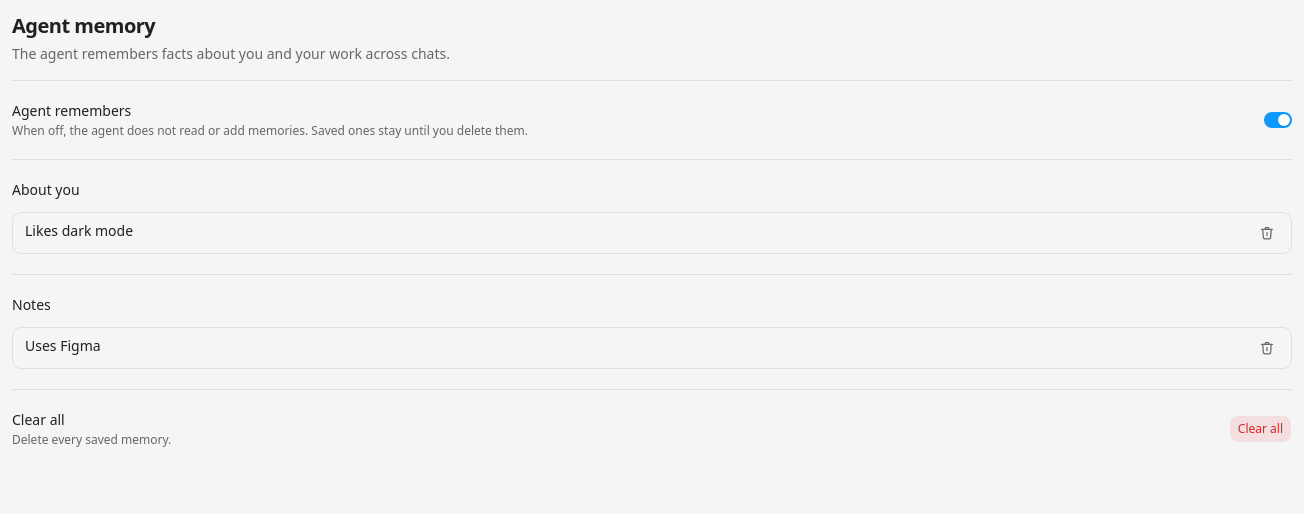
Scenario: MemorySection › reverts the switch when saving fails
Step 1. Click the switch named "Agent remembers" → (1278,120), box [1264, 112, 1292, 128]
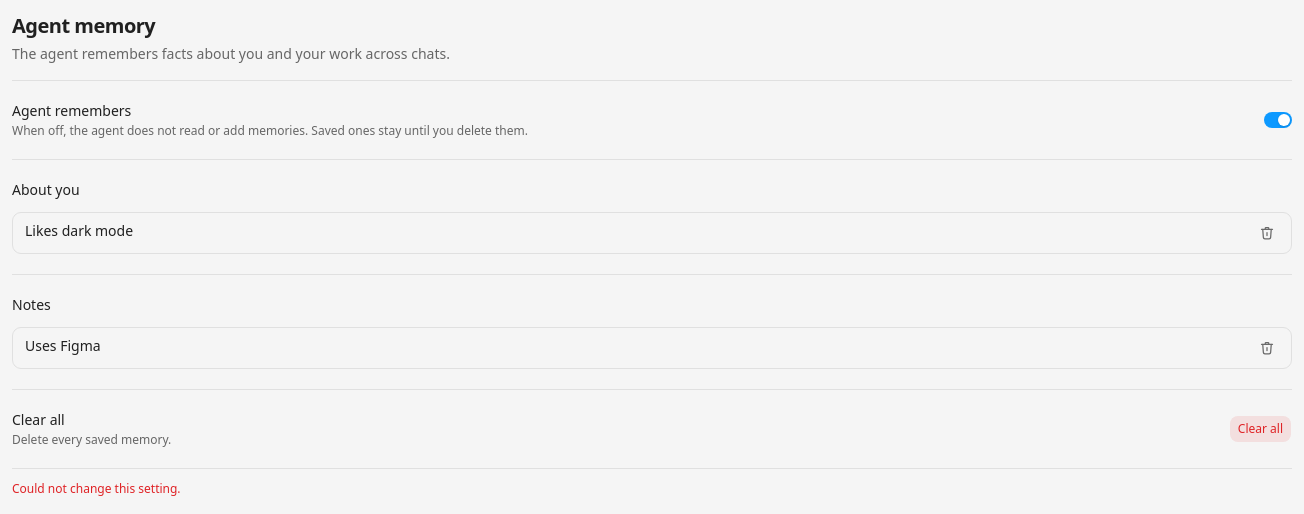
Now the text "Could not change this setting." is shown, box [12, 480, 181, 497]
